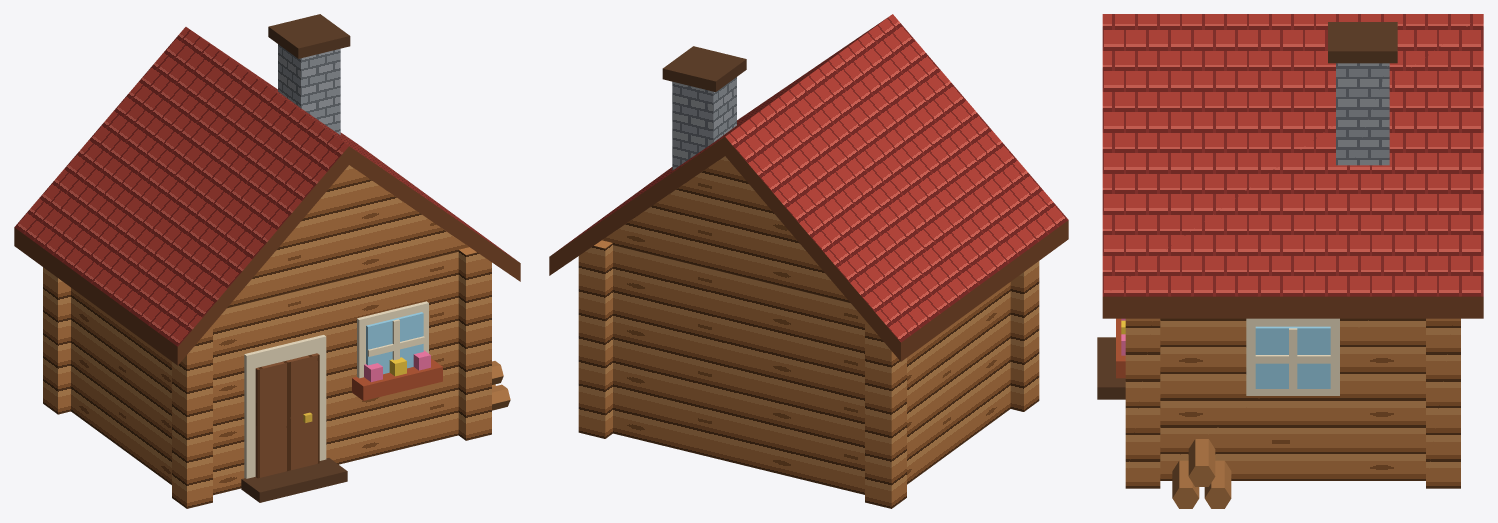
File: square.glb
3 views of the same model, side by side, from view 1: azimuth 30°, elevation 25°; view 2: azimuth 150°, elevation 25°; view 3: azimuth 270°, elevation 25° (orthographic). The views are drawn at different scales.
Visible parts, largest first — view 1: square; view 2: square; view 3: square.
Part boxes in pixels (bbox=[...]): square: bbox=[14, 14, 520, 508]; square: bbox=[549, 14, 1068, 508]; square: bbox=[1097, 14, 1483, 508].
Size of the model in its own units: 1.82 by 1.67 by 1.44.
Materials: 13 (4 with a texture image).
